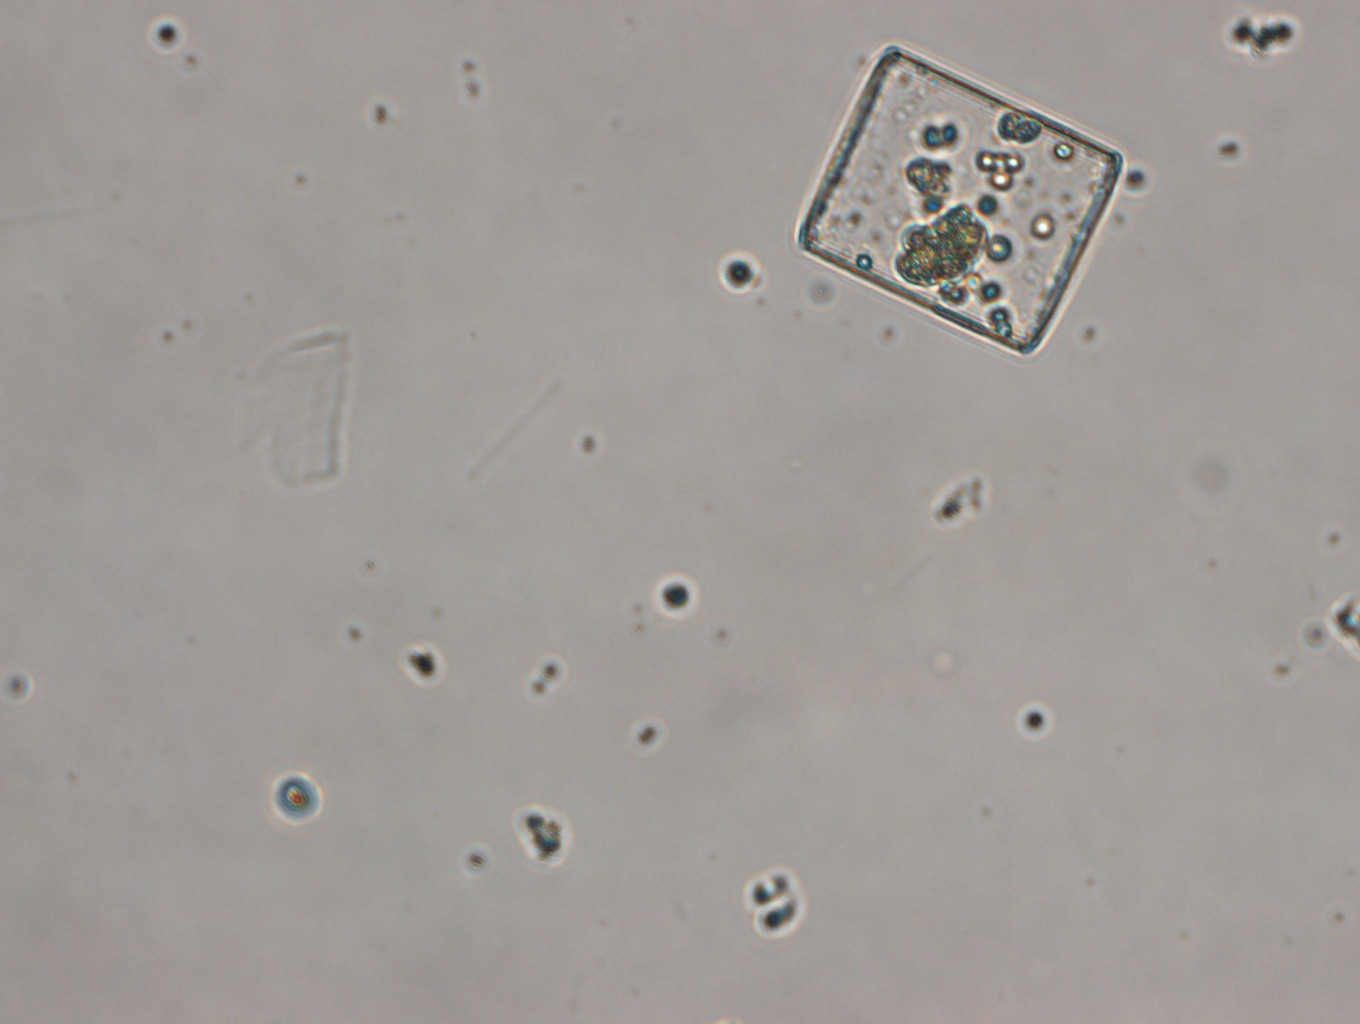guinardia flaccida: (794, 43, 1126, 356)
